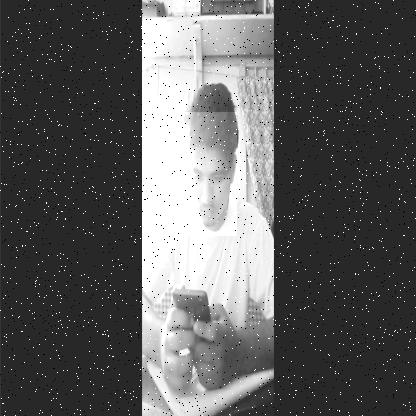Normal: (185, 112, 237, 236)
